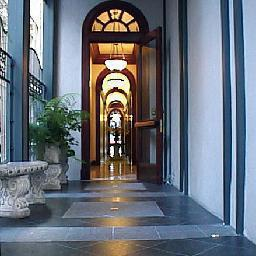Matera: (39, 103, 72, 195)
Puerta: (134, 29, 166, 185)
